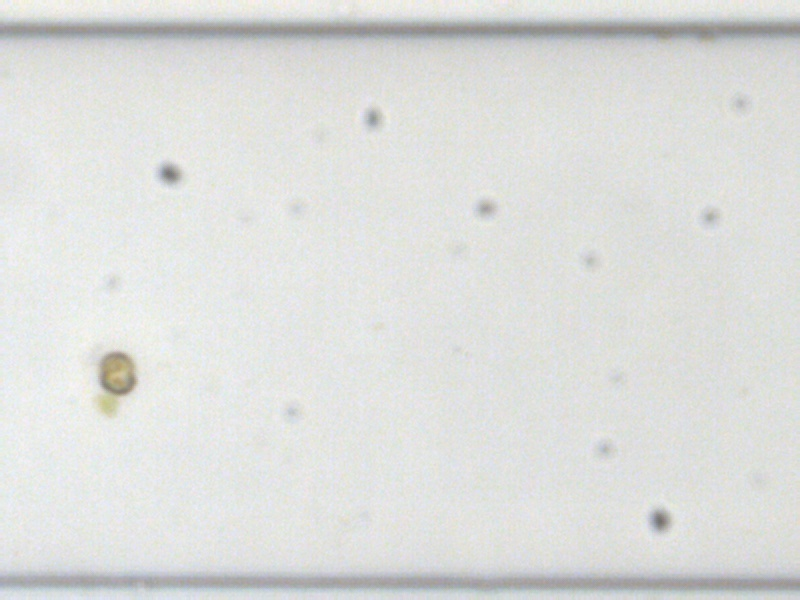Effrenium: (97, 350, 139, 394)
